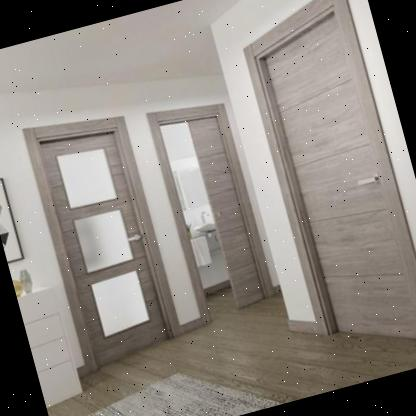door: (227, 0, 416, 380), (21, 101, 182, 380), (142, 91, 282, 332)
